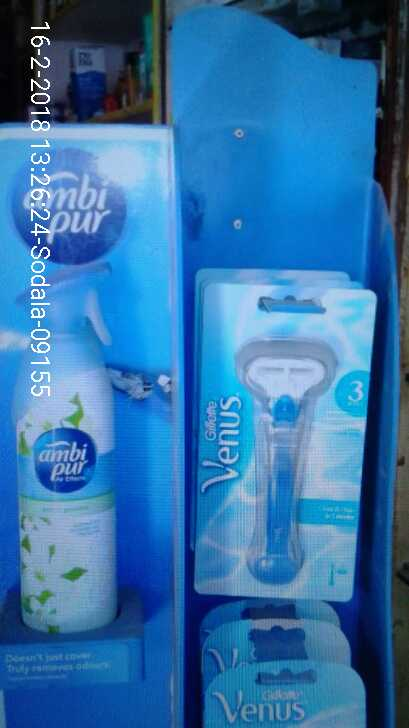beauty: (183, 270, 366, 603)
home: (10, 264, 135, 634)
